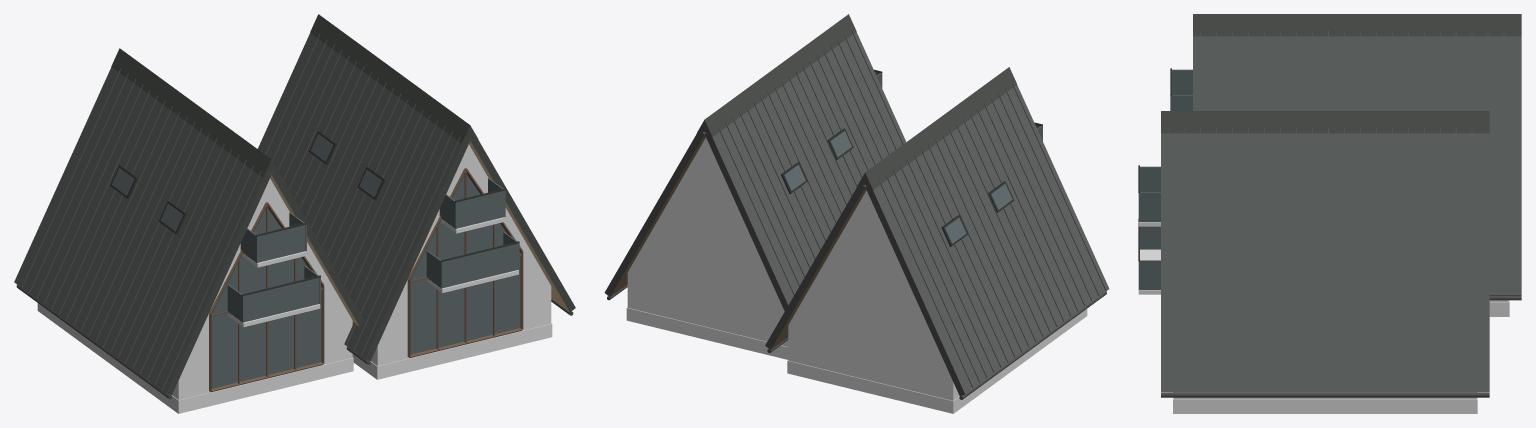
Rendered from p_segozero.glb.
The picture shows the model from 3 angles, left to right: view 1: azimuth 30°, elevation 25°; view 2: azimuth 150°, elevation 25°; view 3: azimuth 270°, elevation 25°; orthographic projection. The views are drawn at different scales.
Visible parts, largest first — view 1: slab, slab.002, main_glass, falz_ribs, main_roof_edge, vol.001, main_timber, vol, strip, strip.001, slab.003, slab.001 (+4 smaller); view 2: slab, slab.002, vol, vol.001, falz_ribs, main_roof_edge, strip, strip.001, slab.001, slab.003, main_glass, main_frame (+1 smaller); view 3: slab.003, slab.001, main_roof_edge, falz_ribs, strip.001, main_glass, main_gutter, vol.001, main_deck.
Part boxes in pixels (x1,y1,x2,y2): slab: [14, 67, 271, 395]; slab.002: [258, 33, 469, 360]; main_glass: [112, 134, 520, 388]; falz_ribs: [22, 34, 459, 389]; main_roof_edge: [111, 14, 478, 177]; vol.001: [371, 144, 551, 365]; main_timber: [209, 168, 523, 392]; vol: [172, 178, 352, 399]; strip: [37, 303, 353, 413]; strip.001: [352, 323, 552, 379]; slab.003: [469, 136, 575, 312]; slab.001: [270, 171, 363, 326]; slab: [865, 85, 1109, 395]; slab.002: [704, 32, 905, 311]; vol: [788, 190, 959, 400]; vol.001: [627, 138, 788, 346]; falz_ribs: [718, 30, 1106, 387]; main_roof_edge: [697, 14, 1017, 189]; strip: [787, 309, 1087, 413]; strip.001: [626, 307, 788, 359]; slab.001: [765, 183, 866, 349]; slab.003: [604, 130, 705, 296]; main_glass: [784, 72, 1042, 243]; main_frame: [781, 128, 1014, 246]; slab.003: [1161, 133, 1489, 392]; slab.001: [1193, 36, 1521, 295]; main_roof_edge: [1161, 14, 1521, 133]; falz_ribs: [1168, 31, 1504, 391]; strip.001: [1173, 392, 1477, 413]; main_glass: [1138, 69, 1192, 289]; main_gutter: [1161, 295, 1521, 397]; vol.001: [1173, 392, 1476, 399]; main_deck: [1138, 222, 1160, 294].
Size of the model in its own units: 15.5 by 8.87 by 12.01.
